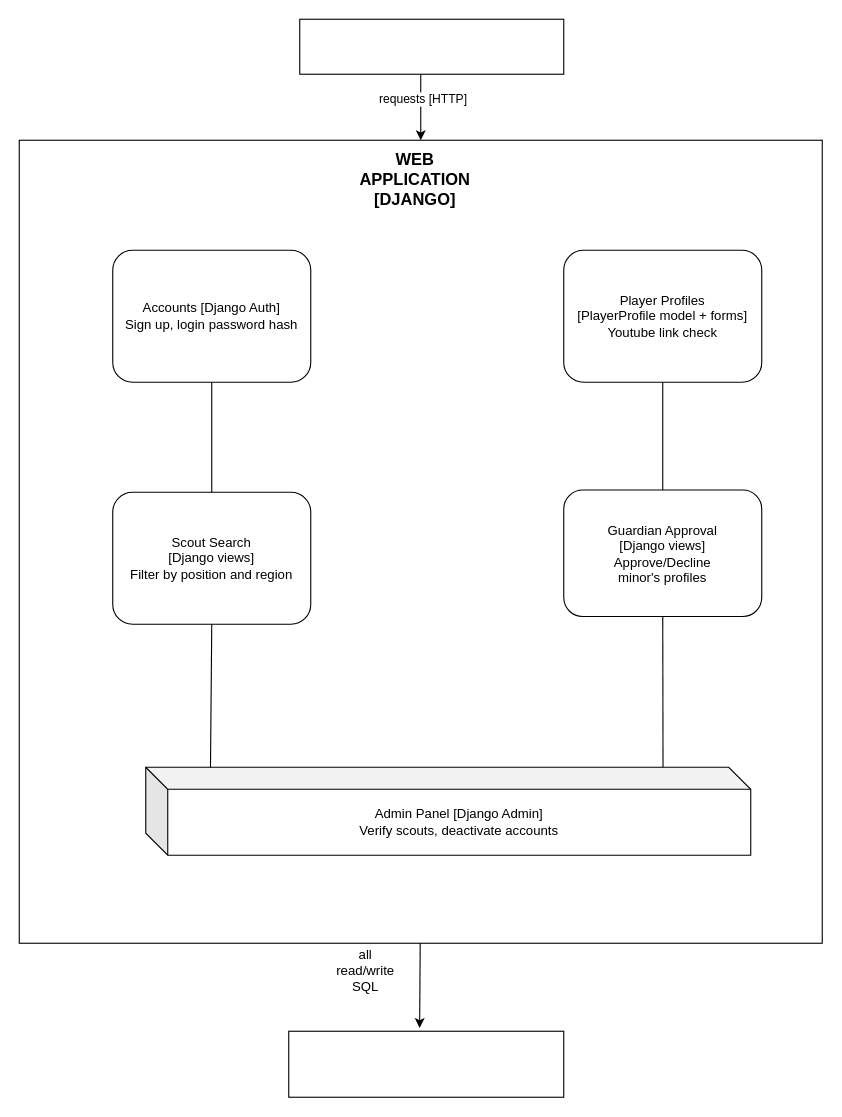
Image size: 842x1117. Some labels were removed from this diagram. Here are the shapes that lost their labels. From the top down, the box of each, then its label:
(299, 18, 564, 74): WEB BROWSER UI
(288, 1030, 564, 1097): Database- PostgresSQL
